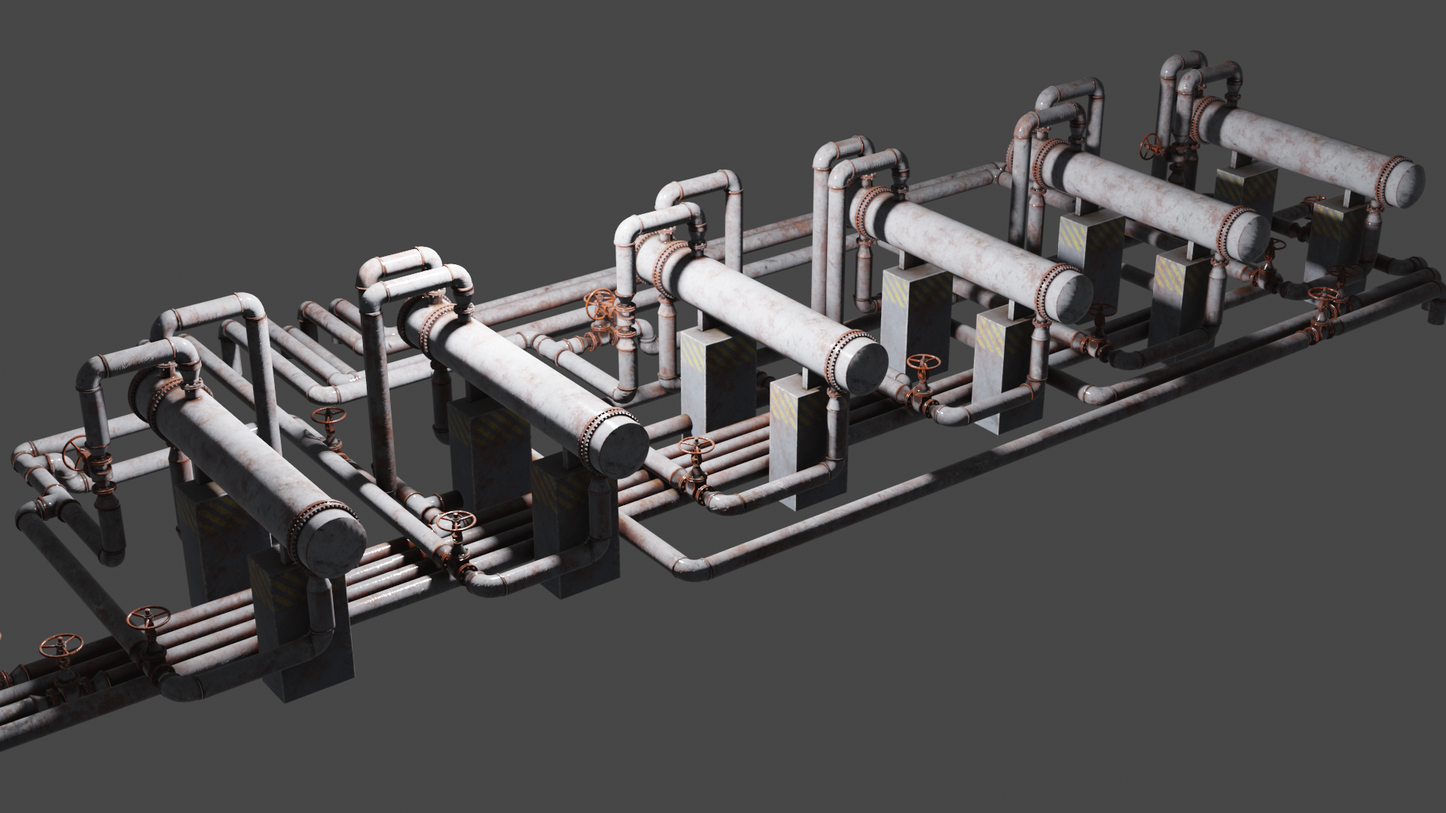HE_1: (1193, 91, 1426, 210)
HE_2: (1002, 114, 1267, 259)
HE_3: (846, 172, 1093, 326)
HE_4: (635, 230, 889, 393)
HE_5: (397, 287, 648, 474)
HE_6: (129, 358, 365, 574)
